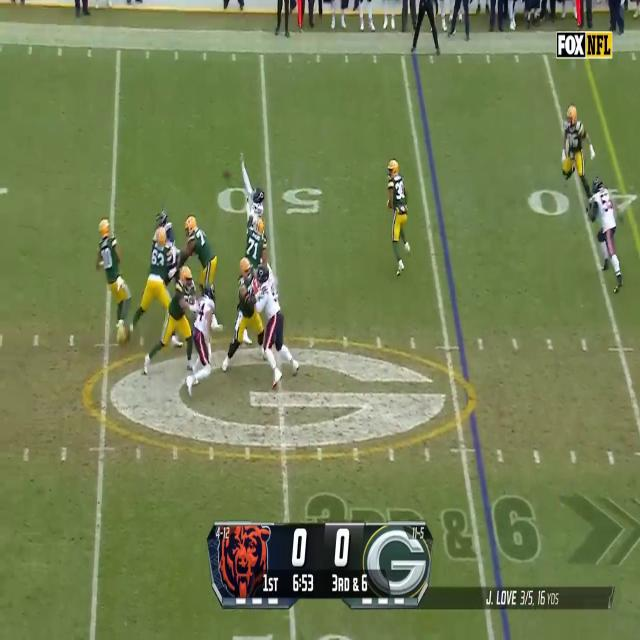Player: (96, 217, 130, 344), (159, 263, 196, 376), (185, 283, 221, 398), (586, 179, 620, 290), (141, 228, 174, 337), (256, 265, 284, 386), (174, 215, 214, 290), (234, 254, 257, 371), (386, 160, 408, 278), (561, 102, 588, 192), (244, 172, 266, 227), (246, 221, 265, 267)
